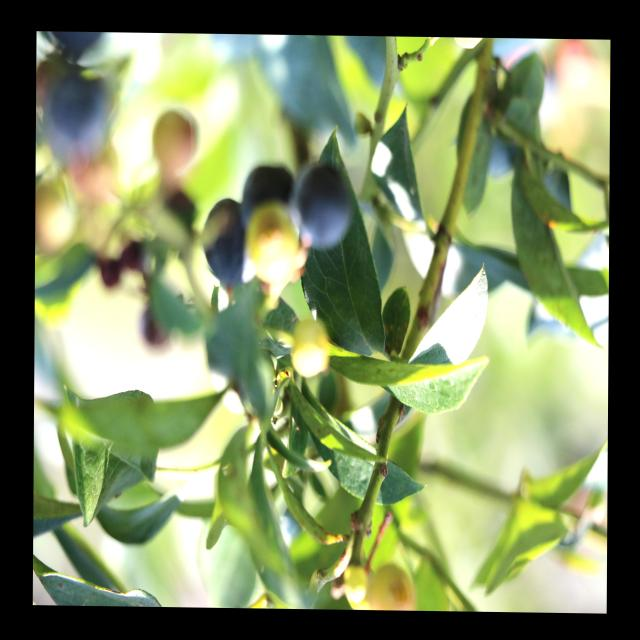blueberry: (47, 70, 112, 158), (201, 201, 258, 283), (295, 170, 352, 246), (239, 163, 298, 224)
blueberry-unripe: (288, 312, 336, 380)
